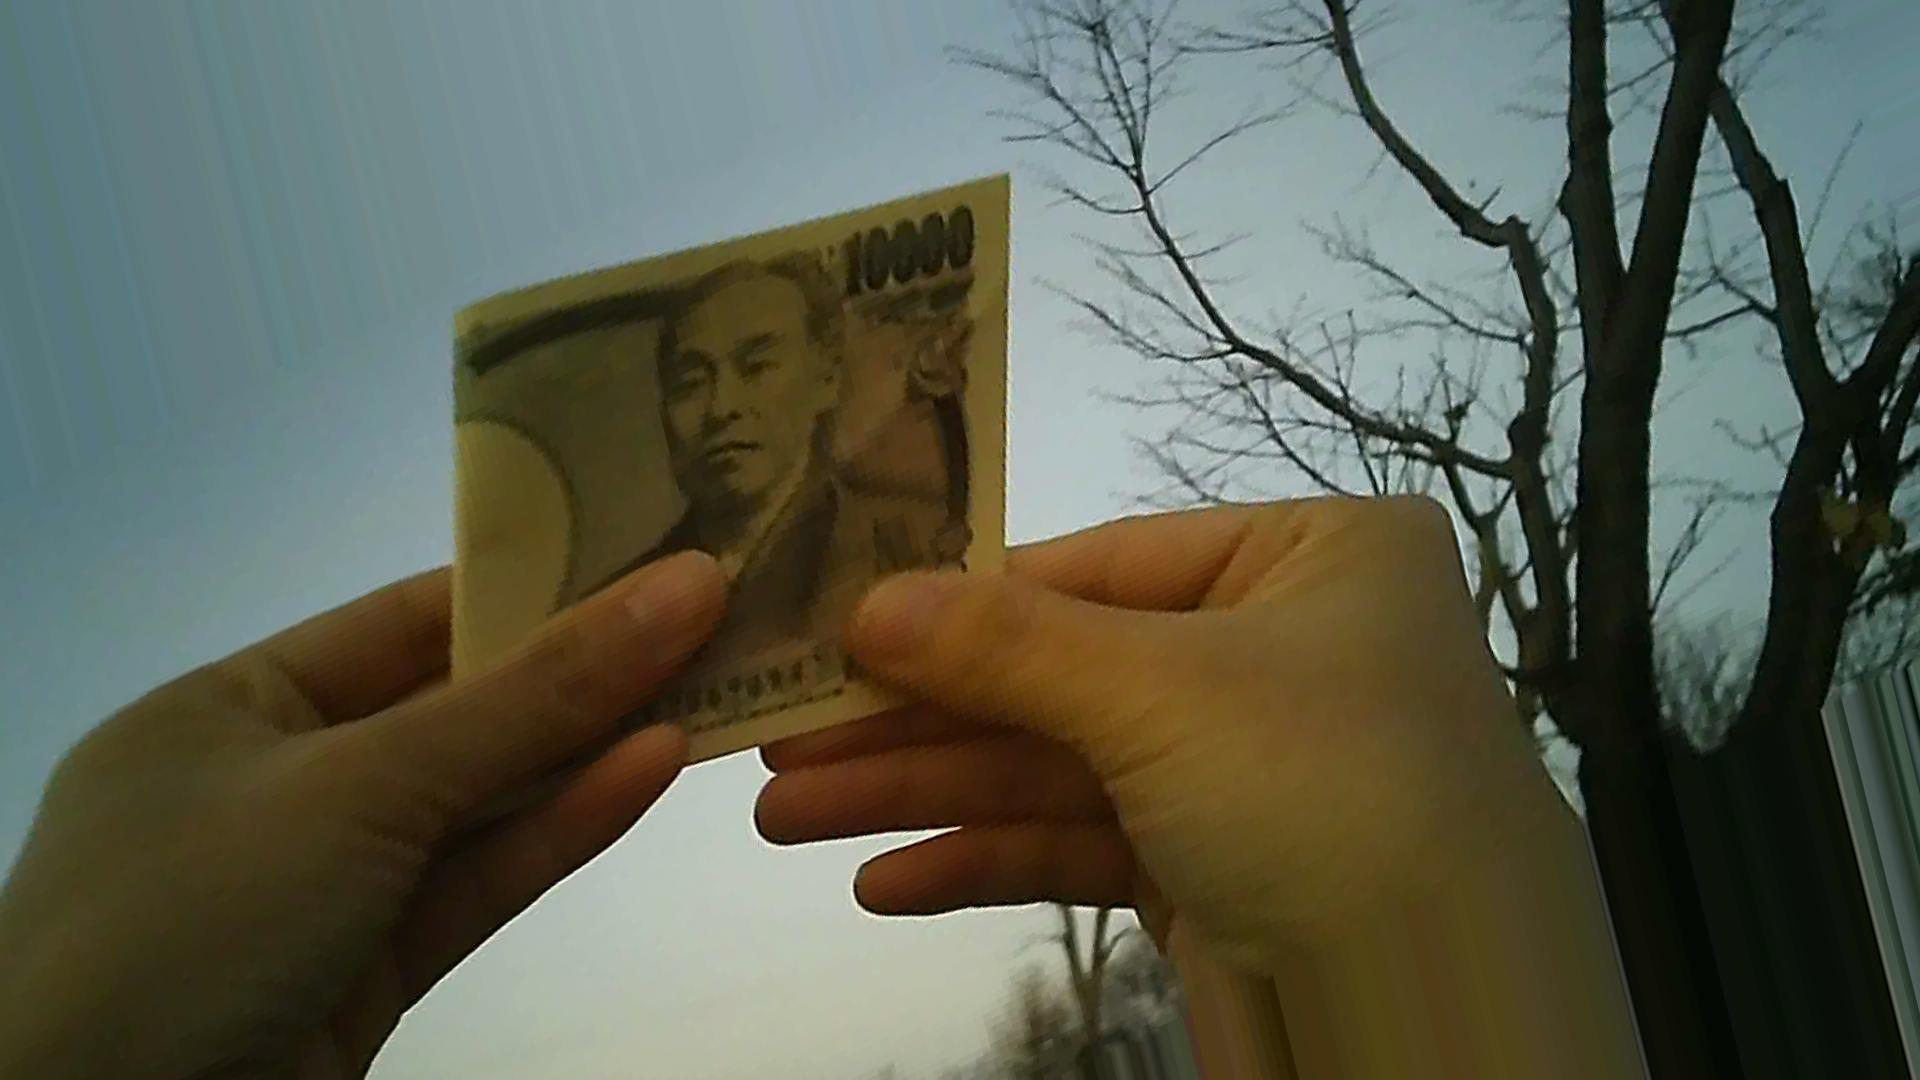10,000 Yen: (405, 157, 1046, 774)
